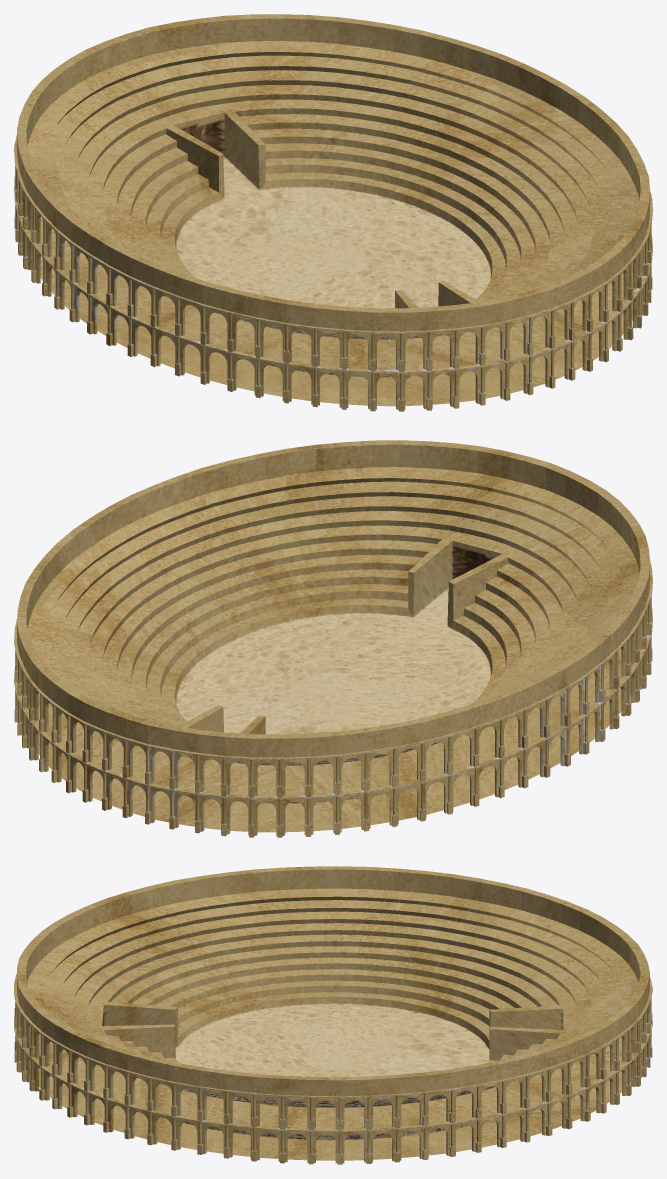
The model's file is Low_Poly_Roman_Amphitheatre_WIP.glb.
The picture shows the model from 3 angles, top to bottom: view 1: azimuth 30°, elevation 25°; view 2: azimuth 150°, elevation 25°; view 3: azimuth 270°, elevation 25°; orthographic projection. The views are drawn at different scales.
Visible parts, largest first — view 1: unnamed; view 2: unnamed; view 3: unnamed.
Boxes of the visible parts, x1,y1,x2,y2 form: unnamed: [14, 14, 652, 411]; unnamed: [14, 440, 652, 837]; unnamed: [14, 866, 652, 1164].
Bounding box in the file's own units: 2.88 × 0.5199 × 3.6.
1 material, 1 textured.
